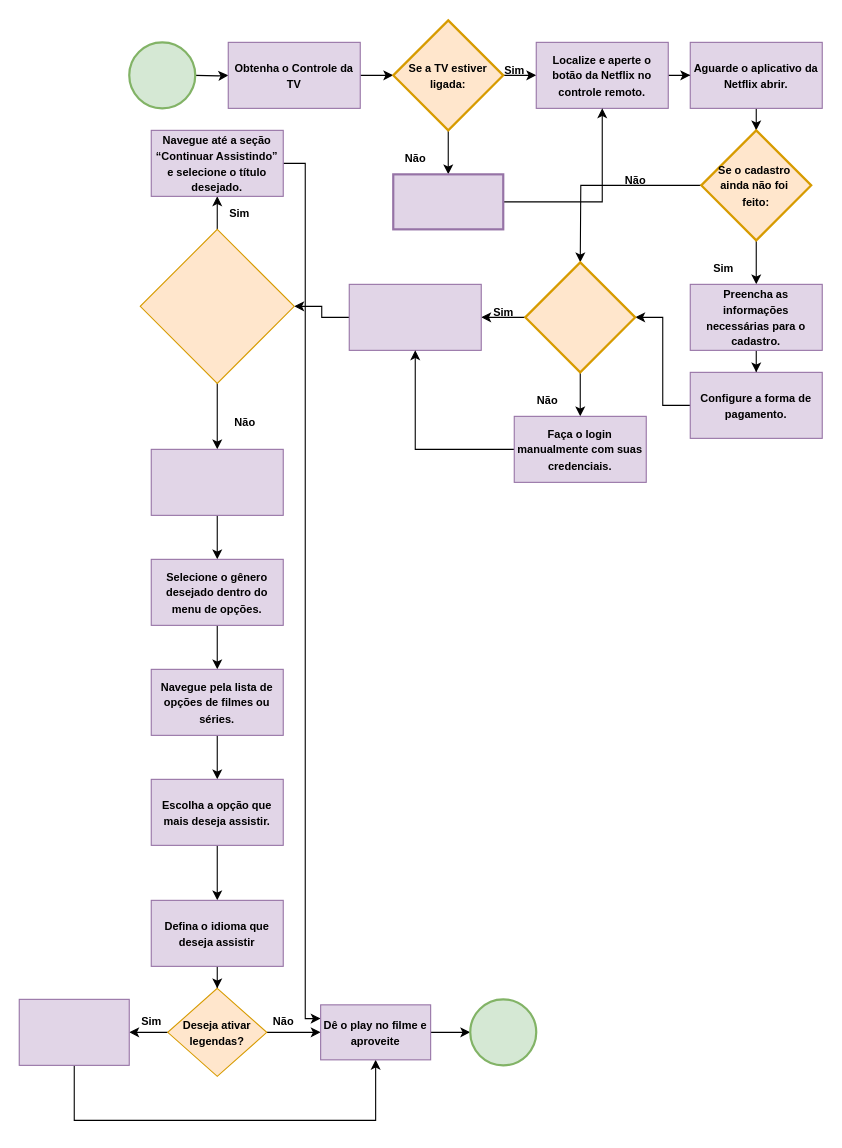
The diagram is 842 pixels wide and 1148 high, and some of its shapes have lost their labels. Each missing label, with the centre of its shape:
Aguarde a abertura da tela inicial da Netflix.: the point at 414,316
Ative as legendas: the point at 73,1031
Fim: the point at 503,1032
Início: the point at 162,75
Ligue a TV.: the point at 448,201
Se deseja continuar assistindo de onde parou anteriormente:: the point at 216,305
Se já houver um login registrado: the point at 580,317
Vá ao menu de opções e escolha entre assistir filme ou série.: the point at 216,481
